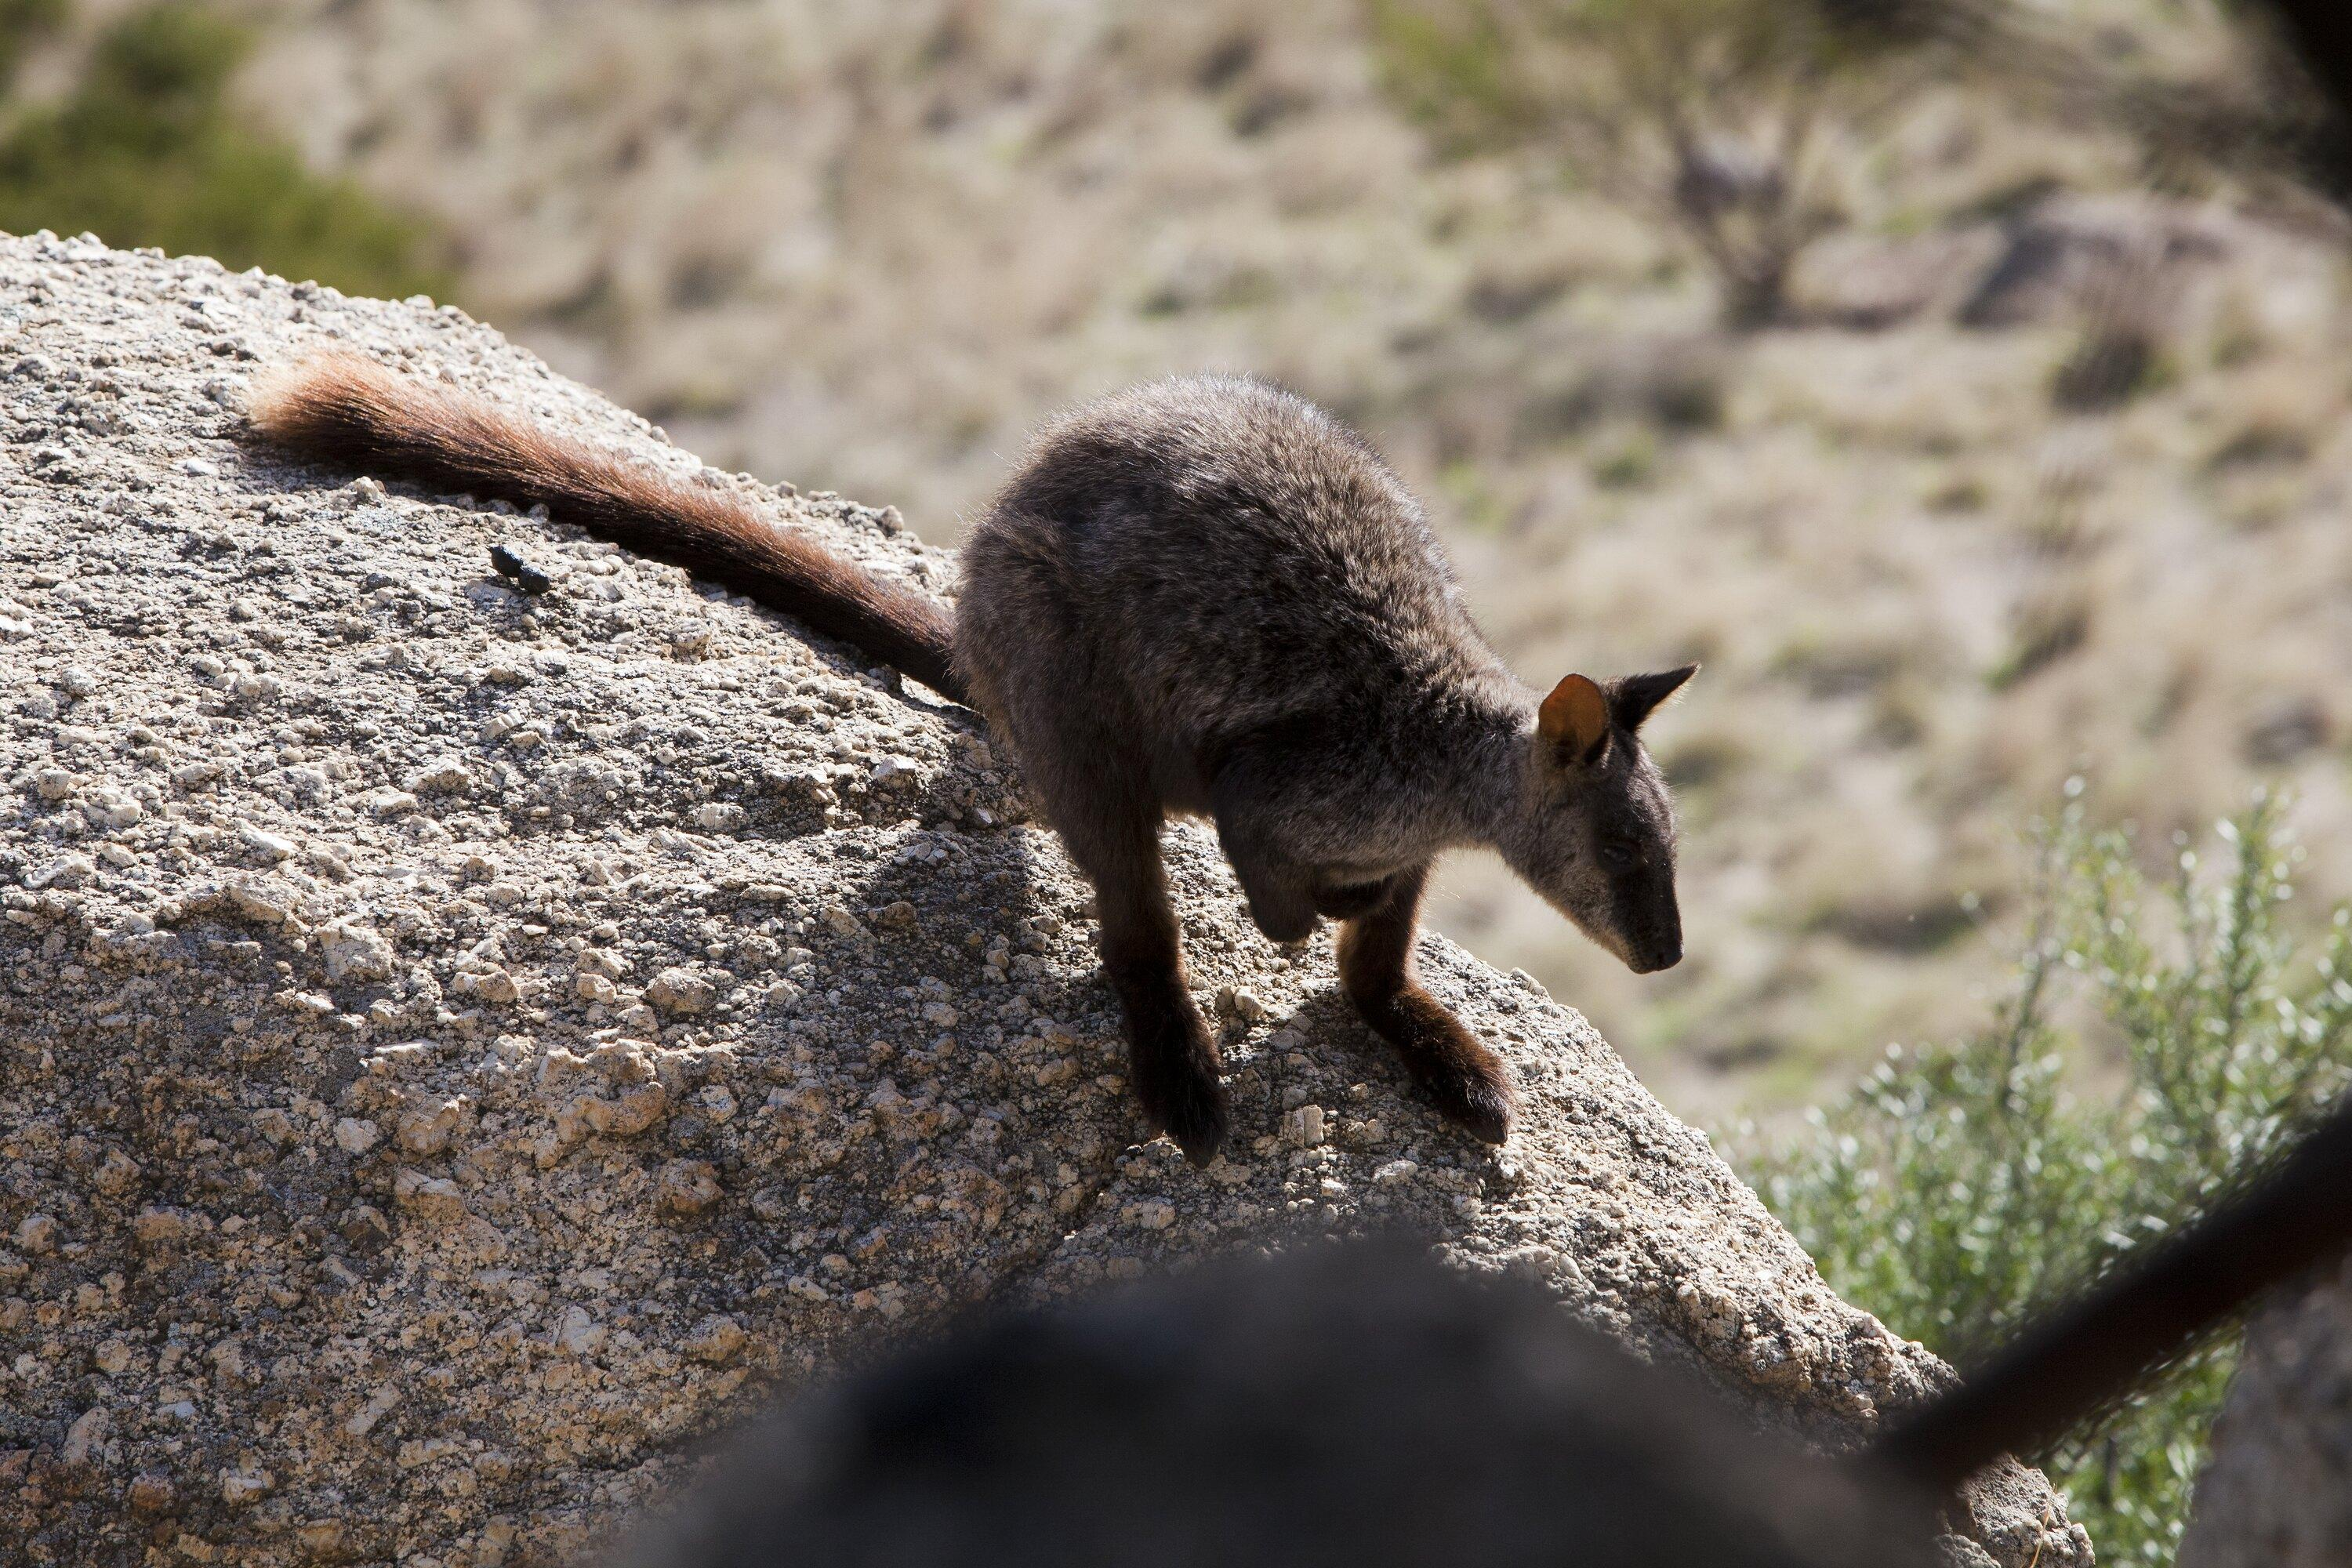Brush-tailed rock-wallaby: (238, 354, 1706, 1178)
